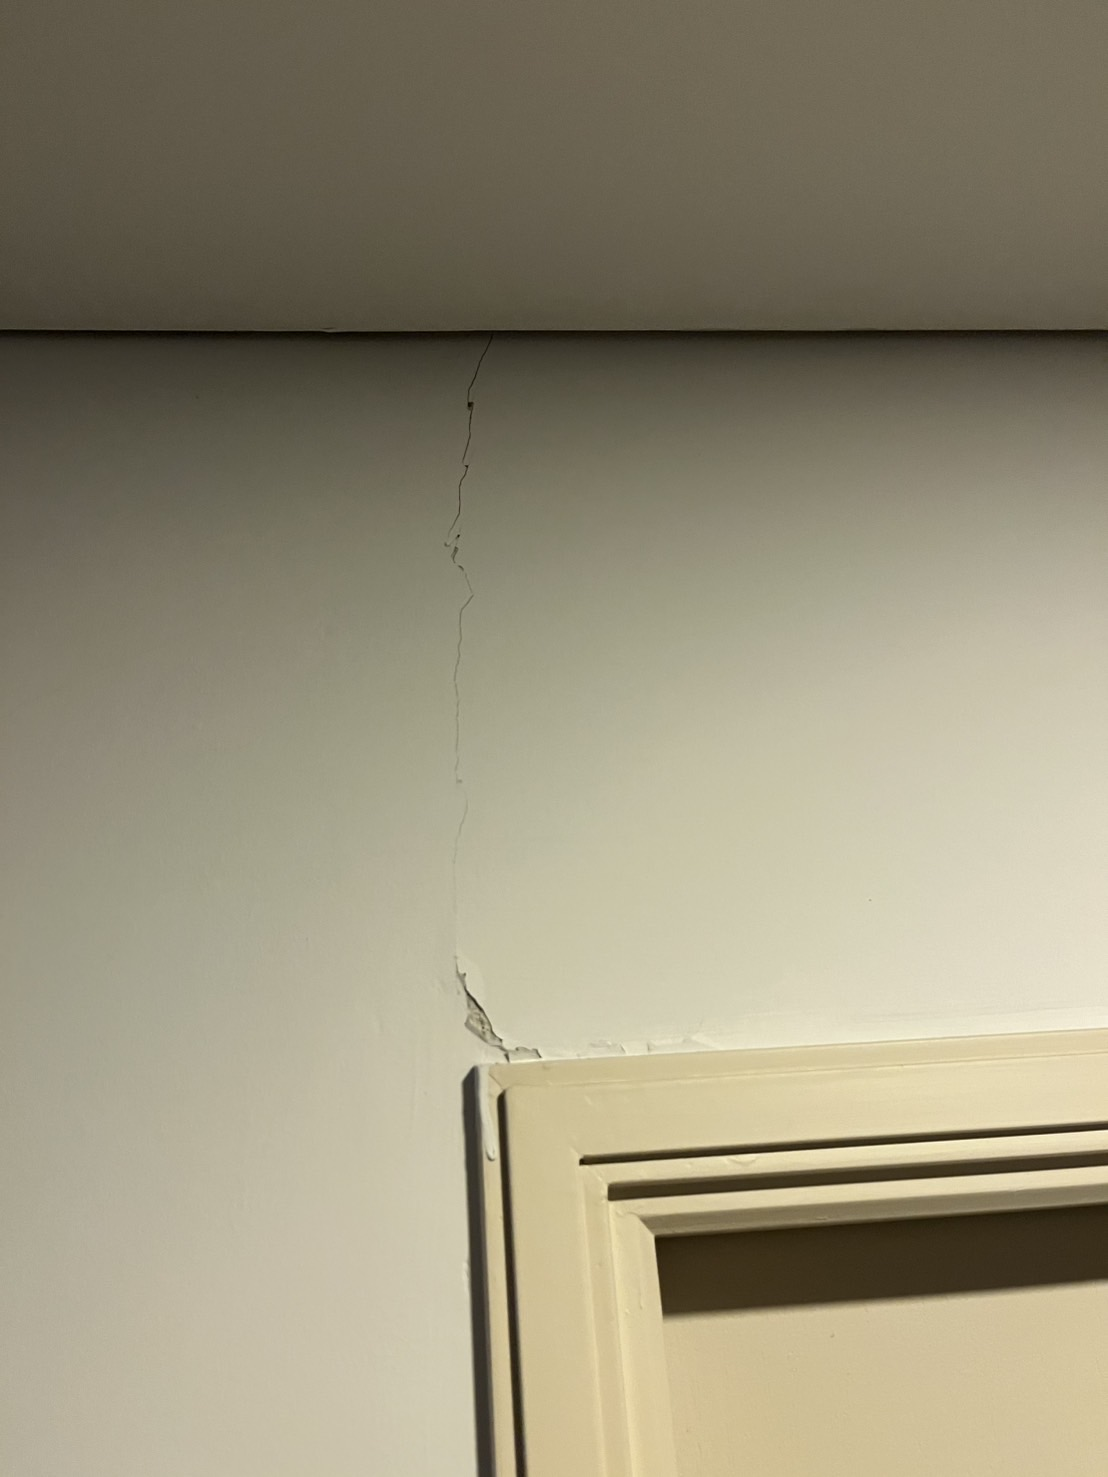Low: (450, 317, 618, 1072)
